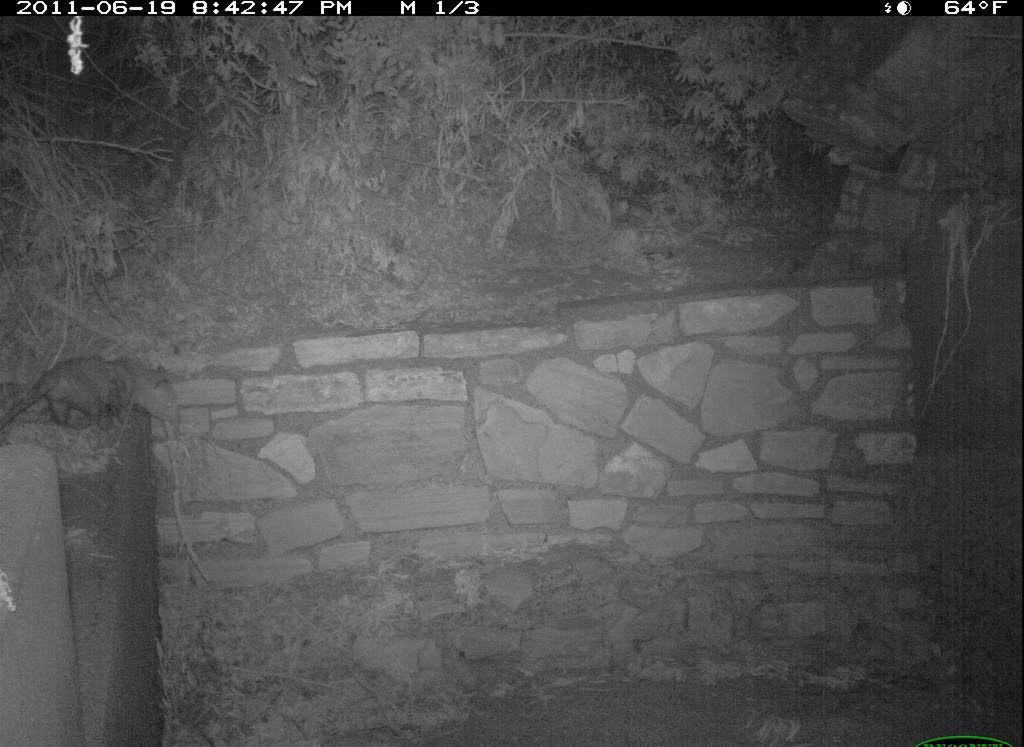opossum: (4, 346, 190, 465)
